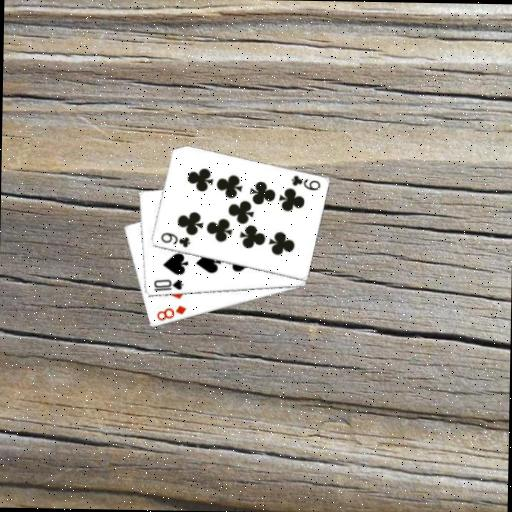10S: (151, 276, 185, 293)
8D: (154, 302, 188, 323)
9C: (288, 172, 322, 193), (158, 229, 192, 249)
